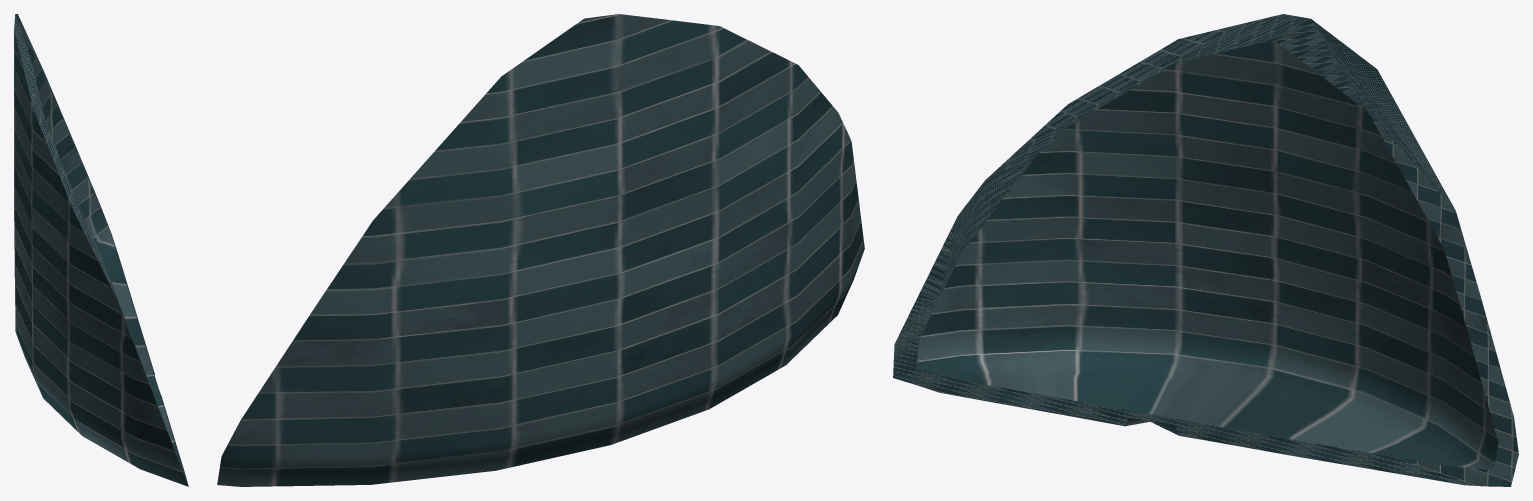
3 renders of one model, left to right at view 1: azimuth 30°, elevation 25°; view 2: azimuth 150°, elevation 25°; view 3: azimuth 270°, elevation 25°, orthographic. The views are drawn at different scales.
Parts seen in each view (by area): view 1: Cylinder_cell.003; view 2: Cylinder_cell.003; view 3: Cylinder_cell.003.
Boxes of the visible parts, x1,y1,x2,y2 form: Cylinder_cell.003: (14,14,188,486); Cylinder_cell.003: (217,14,864,486); Cylinder_cell.003: (893,14,1518,486).
Bounding box in the file's own units: 0.7981 × 1.08 × 1.64.
Materials: 1 (1 with a texture image).
